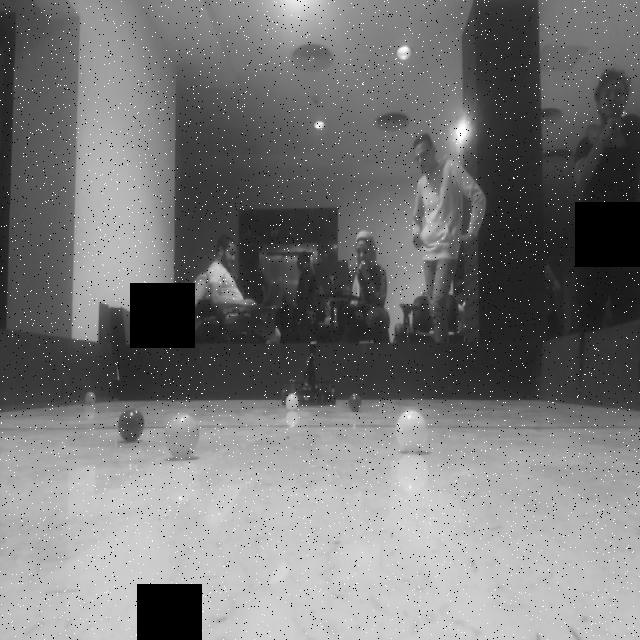ball: (164, 412, 202, 463), (394, 406, 431, 454), (116, 406, 149, 444), (279, 390, 303, 412), (80, 386, 100, 409), (347, 388, 367, 411)
